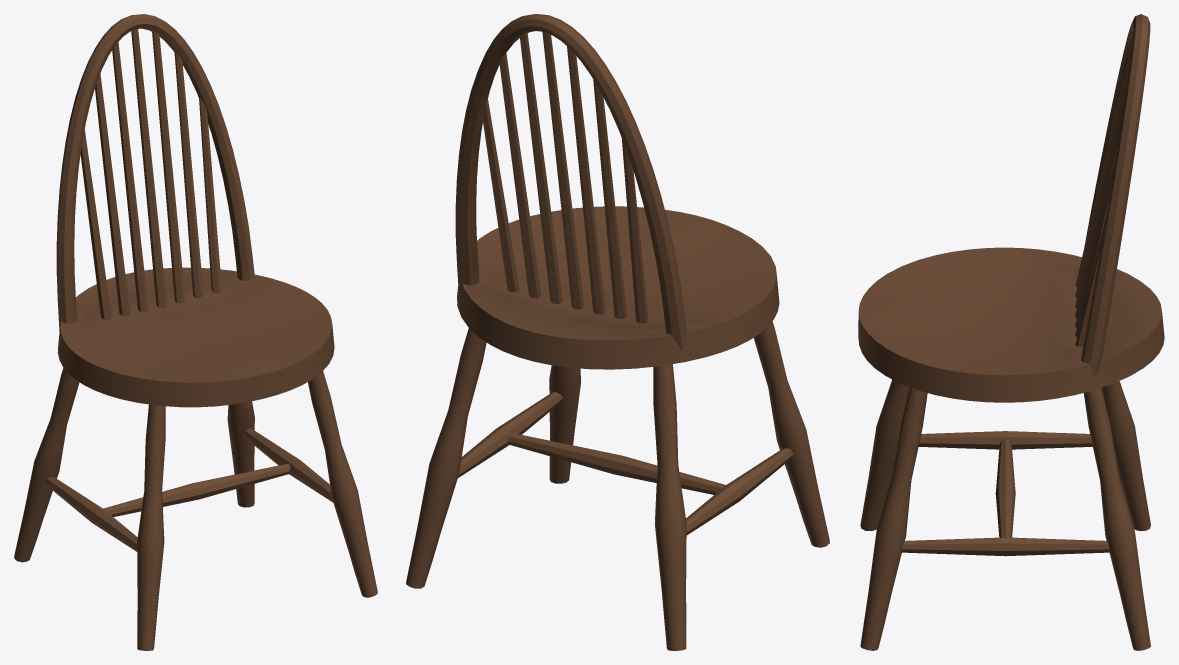
The model's file is chairWindsor.glb.
The picture shows the model from 3 angles, left to right: view 1: azimuth 30°, elevation 25°; view 2: azimuth 150°, elevation 25°; view 3: azimuth 270°, elevation 25°; orthographic projection. The views are drawn at different scales.
Parts seen in each view (by area): view 1: chairWindsor; view 2: chairWindsor; view 3: chairWindsor.
Part boxes in pixels (x1=…): chairWindsor: x1=14, y1=14, x2=377, y2=650; chairWindsor: x1=406, y1=14, x2=829, y2=650; chairWindsor: x1=858, y1=14, x2=1164, y2=650.
Bounding box in the file's own units: 0.4742 × 0.9681 × 0.4722.
